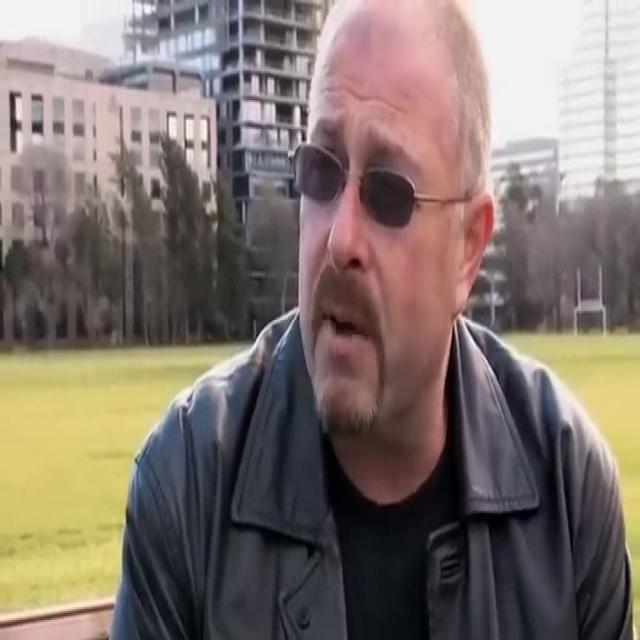others: (106, 0, 634, 638)
